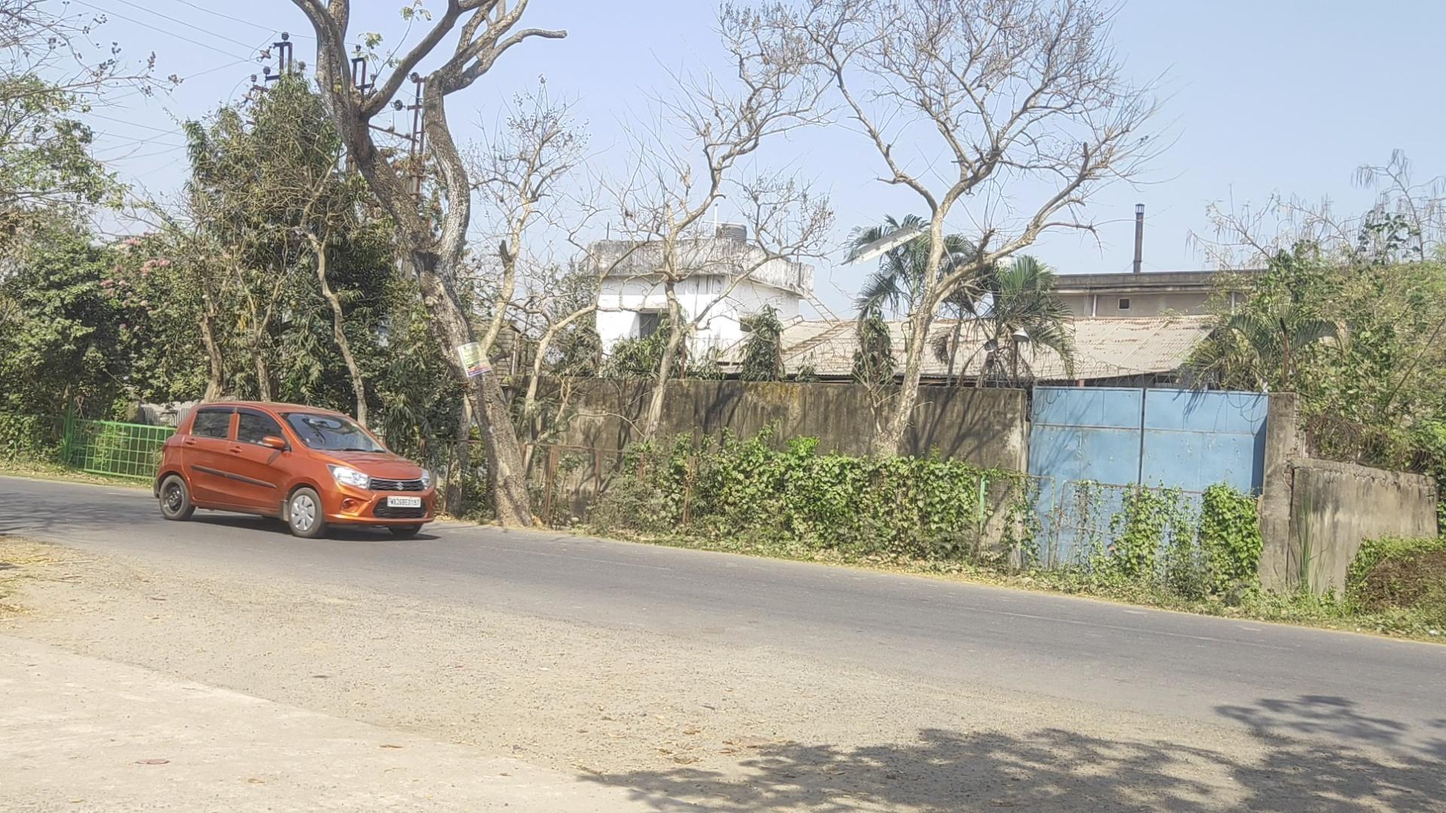car: (154, 401, 438, 539)
